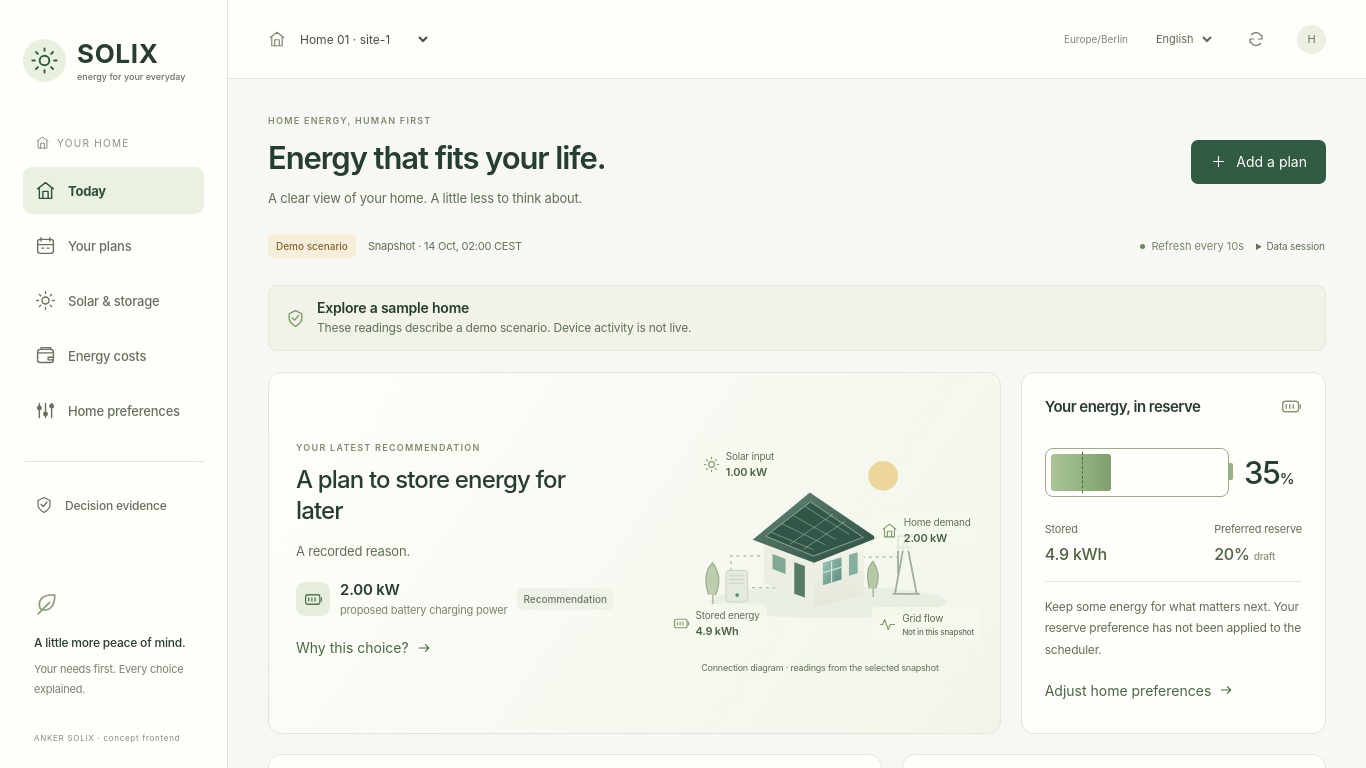
Household-first experience › shows a demand shortfall with choices, without allowing confirmation
expect the text "A recorded reason." is shown: met, box [296,543,410,559]
Click the button "Add a plan" at (1259, 162), box [1191,140,1326,184]
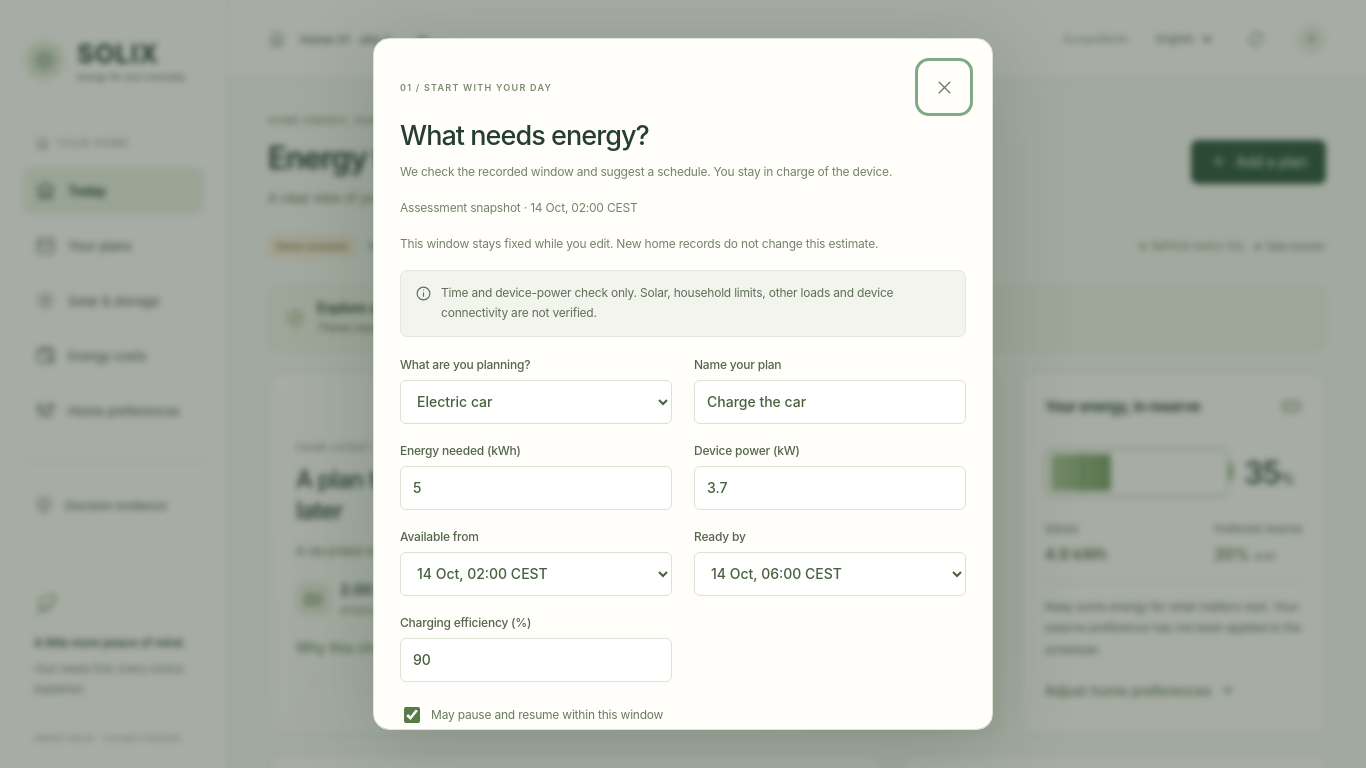
Replace the text in the number field labelled "Energy needed (kWh)" with "100" at (536, 488), box [400,466,672,510]
(page scrolled)
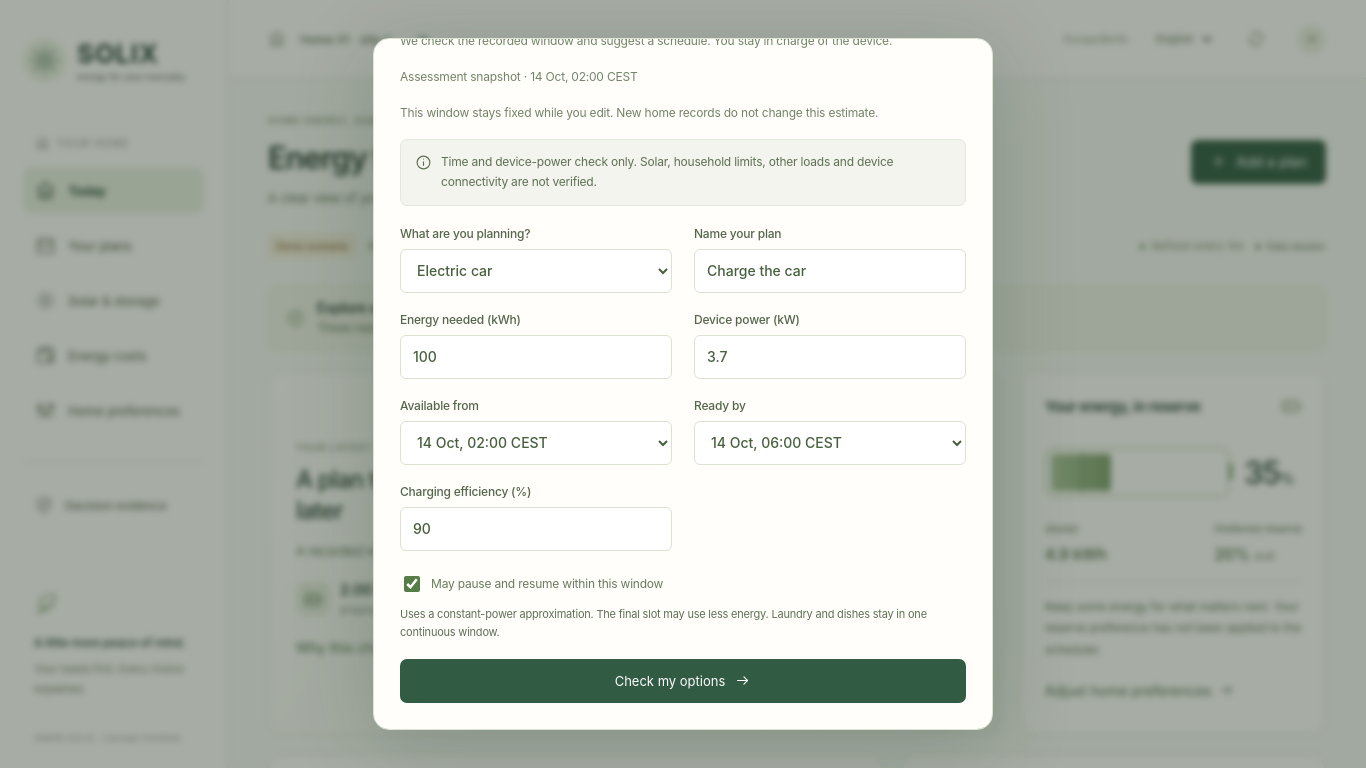
Click the button "Check my options" at (683, 681), box [400,659,966,703]
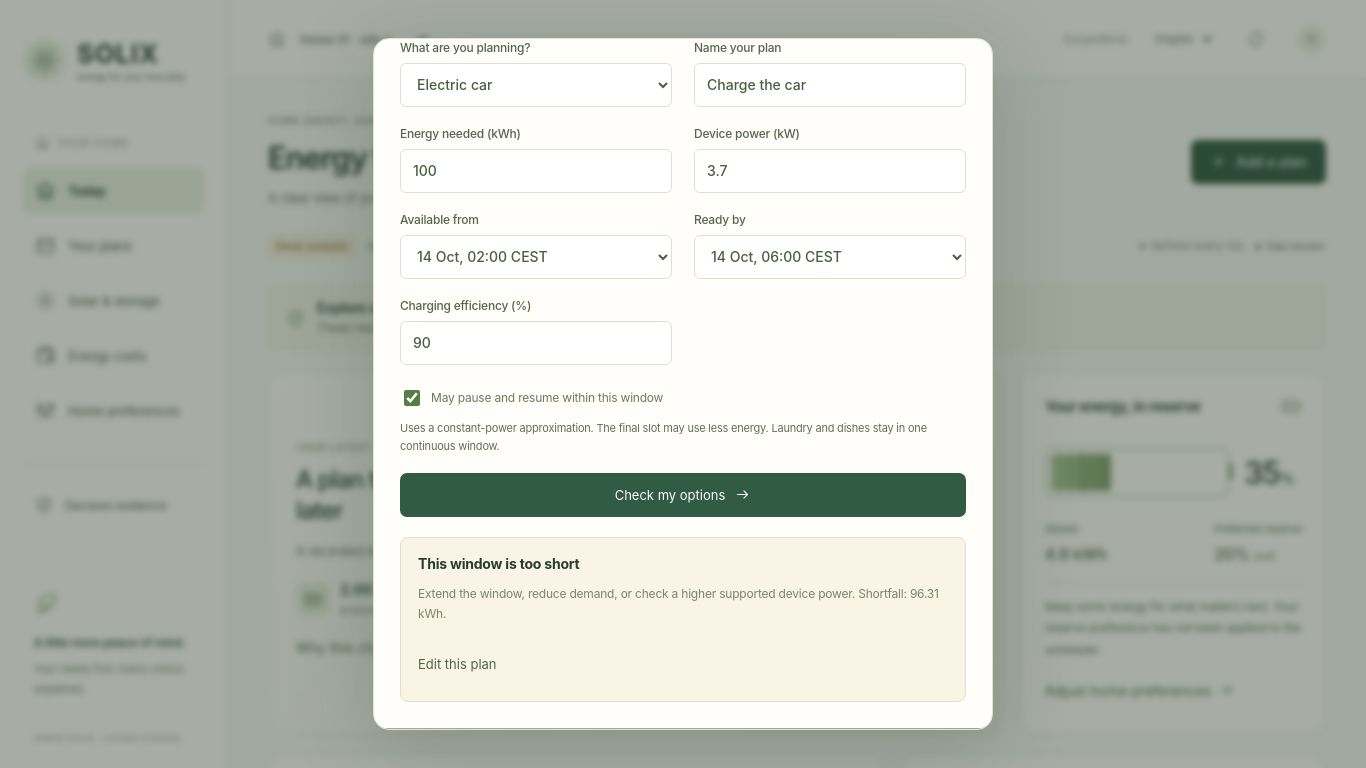
expect the text "This window is too short" is shown: met, box [418,555,580,572]
